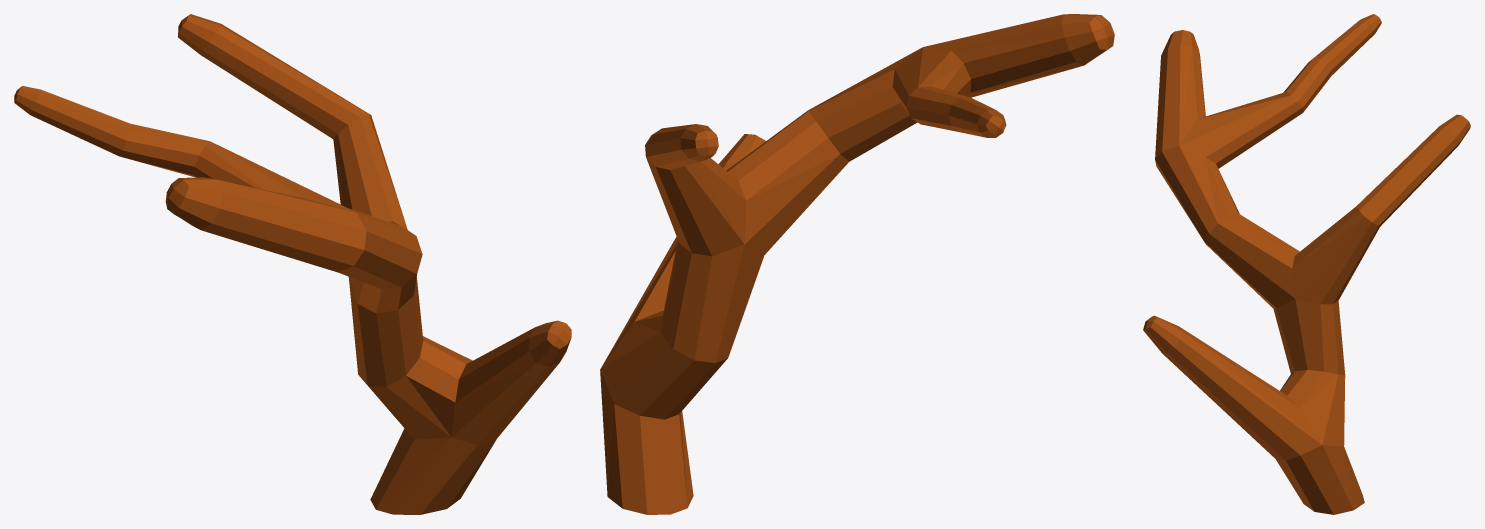
Rendered from Stick_01.fbx.
The picture shows the model from 3 angles, left to right: view 1: azimuth 30°, elevation 25°; view 2: azimuth 150°, elevation 25°; view 3: azimuth 270°, elevation 25°; orthographic projection. The views are drawn at different scales.
Visible parts, largest first — view 1: Stick_01; view 2: Stick_01; view 3: Stick_01.
Boxes of the visible parts, x1=… form: Stick_01: x1=14, y1=14, x2=571, y2=514; Stick_01: x1=600, y1=14, x2=1114, y2=514; Stick_01: x1=1143, y1=14, x2=1470, y2=514.
Size of the model in its own units: 97.86 by 103 by 85.98.
